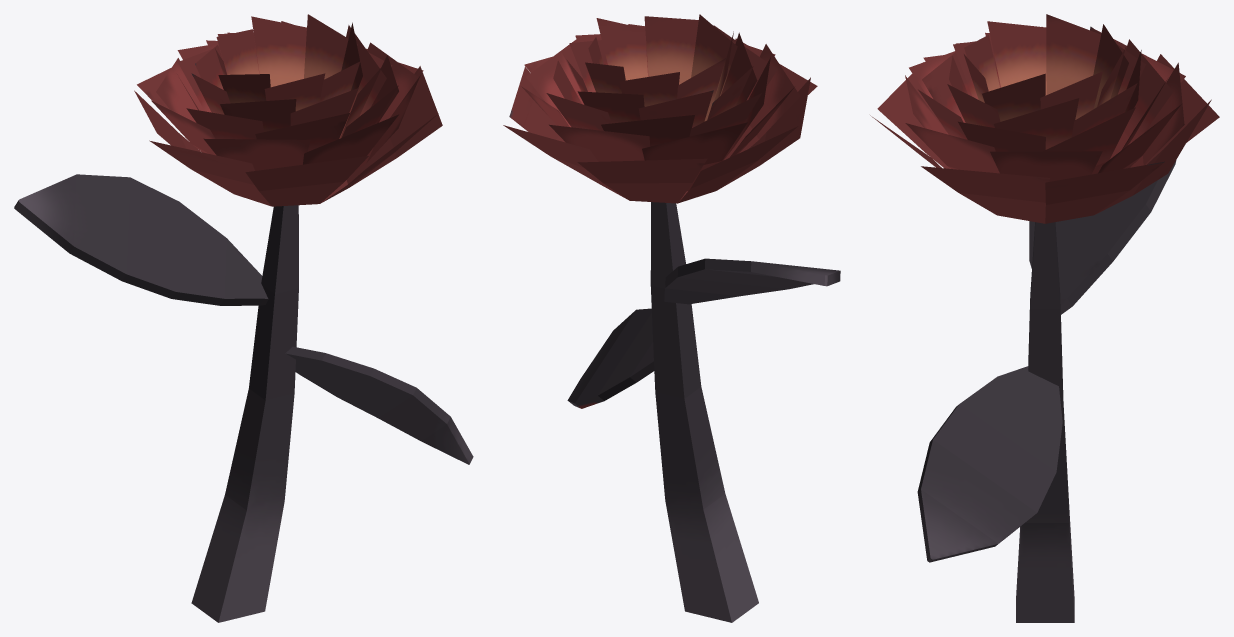
The model's file is LavaRose.fbx.
The picture shows the model from 3 angles, left to right: view 1: azimuth 30°, elevation 25°; view 2: azimuth 150°, elevation 25°; view 3: azimuth 270°, elevation 25°; orthographic projection. The views are drawn at different scales.
Visible parts, largest first — view 1: Cube.005; view 2: Cube.005; view 3: Cube.005.
Part boxes in pixels (x1,y1,x2,y2): Cube.005: (14, 14, 473, 622); Cube.005: (503, 14, 840, 622); Cube.005: (870, 14, 1219, 622).
Bounding box in the file's own units: 0.2191 × 0.3276 × 0.1728.
